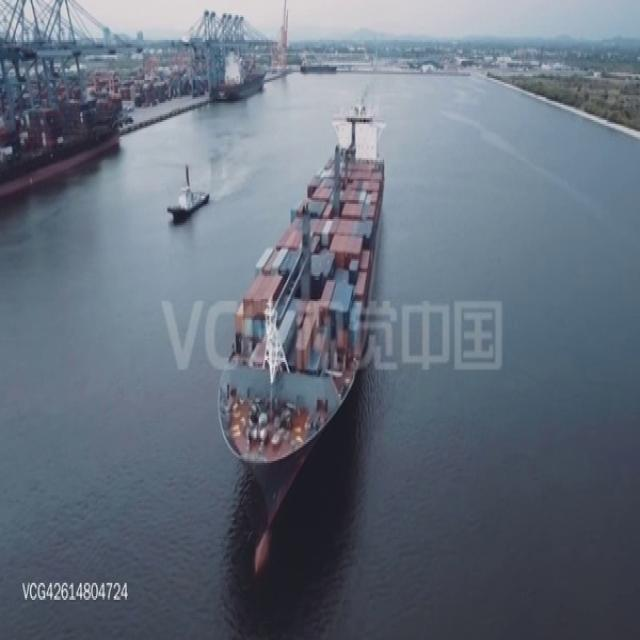cargoship: (218, 108, 388, 542)
houseboat: (165, 161, 208, 223)
